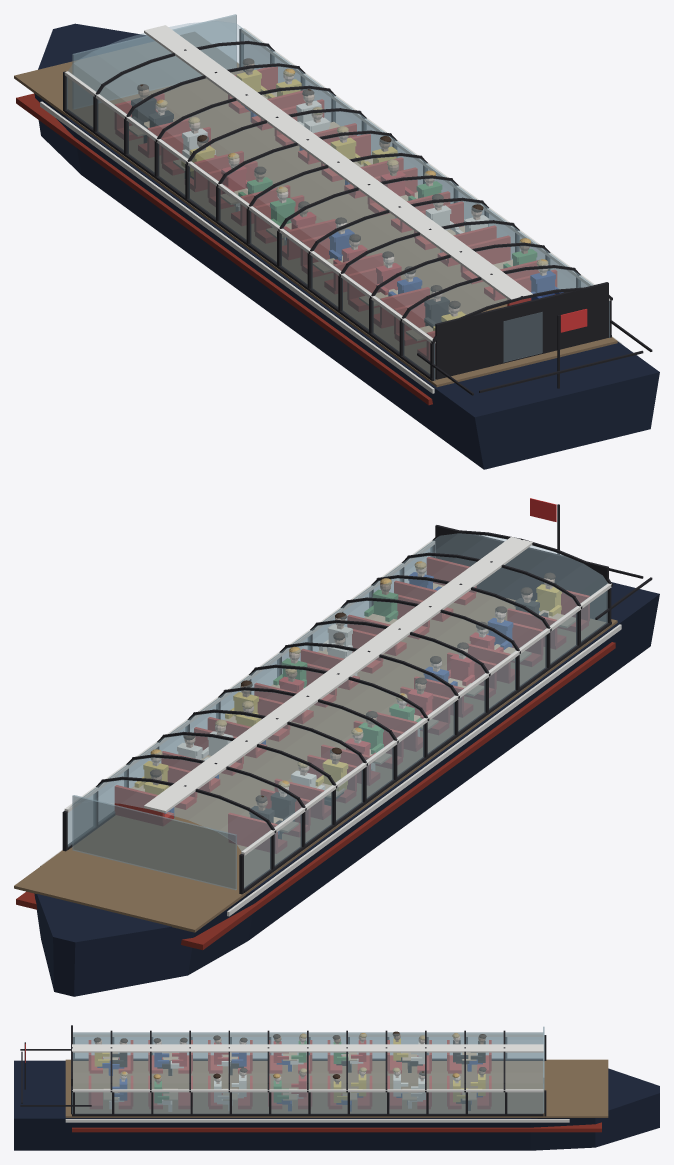
File: tourboat.glb
3 views of the same model, one above another, from view 1: azimuth 30°, elevation 25°; view 2: azimuth 150°, elevation 25°; view 3: azimuth 270°, elevation 25° (orthographic). The views are drawn at different scales.
Visible parts, largest first — view 1: tourboat; view 2: tourboat; view 3: tourboat.
Boxes of the visible parts, x1=… form: tourboat: x1=14, y1=14, x2=659, y2=469; tourboat: x1=14, y1=498, x2=659, y2=996; tourboat: x1=14, y1=1025, x2=659, y2=1150.
Size of the model in its own units: 4.34 by 2.8 by 20.
